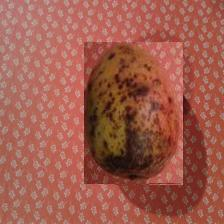Mango Semirotten: (84, 43, 183, 186)
